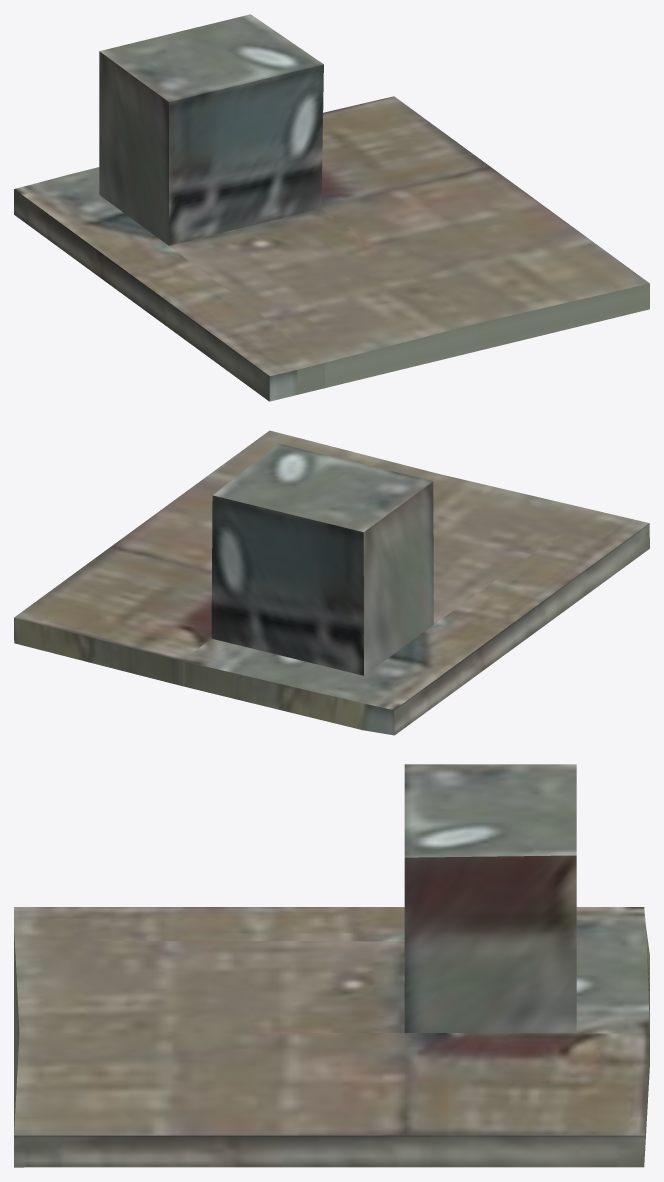
3 views of the same model, one above another, from view 1: azimuth 30°, elevation 25°; view 2: azimuth 150°, elevation 25°; view 3: azimuth 270°, elevation 25° (orthographic). The views are drawn at different scales.
Visible parts, largest first — view 1: orto-edificio22-completo.052; view 2: orto-edificio22-completo.052; view 3: orto-edificio22-completo.052.
Boxes of the visible parts, <box> form: orto-edificio22-completo.052: <box>14,14,649,401</box>; orto-edificio22-completo.052: <box>14,430,649,735</box>; orto-edificio22-completo.052: <box>14,764,649,1167</box>.
Bounding box in the file's own units: 1.5 × 0.6382 × 1.76.
2 materials, 2 textured.
